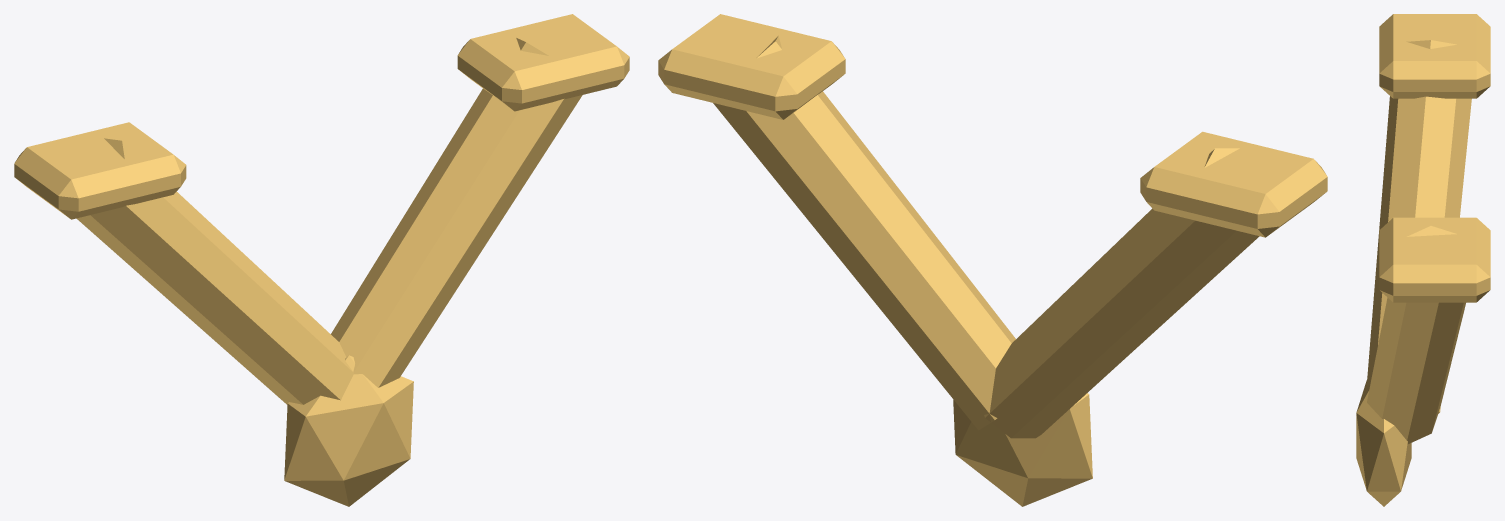
3 views of the same model, side by side, from view 1: azimuth 30°, elevation 25°; view 2: azimuth 150°, elevation 25°; view 3: azimuth 270°, elevation 25° (orthographic). The views are drawn at different scales.
Parts seen in each view (by area): view 1: RE-078 Aurora spacesuit ceremonial regalia batched; view 2: RE-078 Aurora spacesuit ceremonial regalia batched; view 3: RE-078 Aurora spacesuit ceremonial regalia batched.
Boxes of the visible parts, x1,y1,x2,y2 form: RE-078 Aurora spacesuit ceremonial regalia batched: [14, 14, 629, 506]; RE-078 Aurora spacesuit ceremonial regalia batched: [658, 14, 1327, 506]; RE-078 Aurora spacesuit ceremonial regalia batched: [1356, 14, 1490, 506].
Bounding box in the file's own units: 0.67 × 0.4452 × 0.1448.
